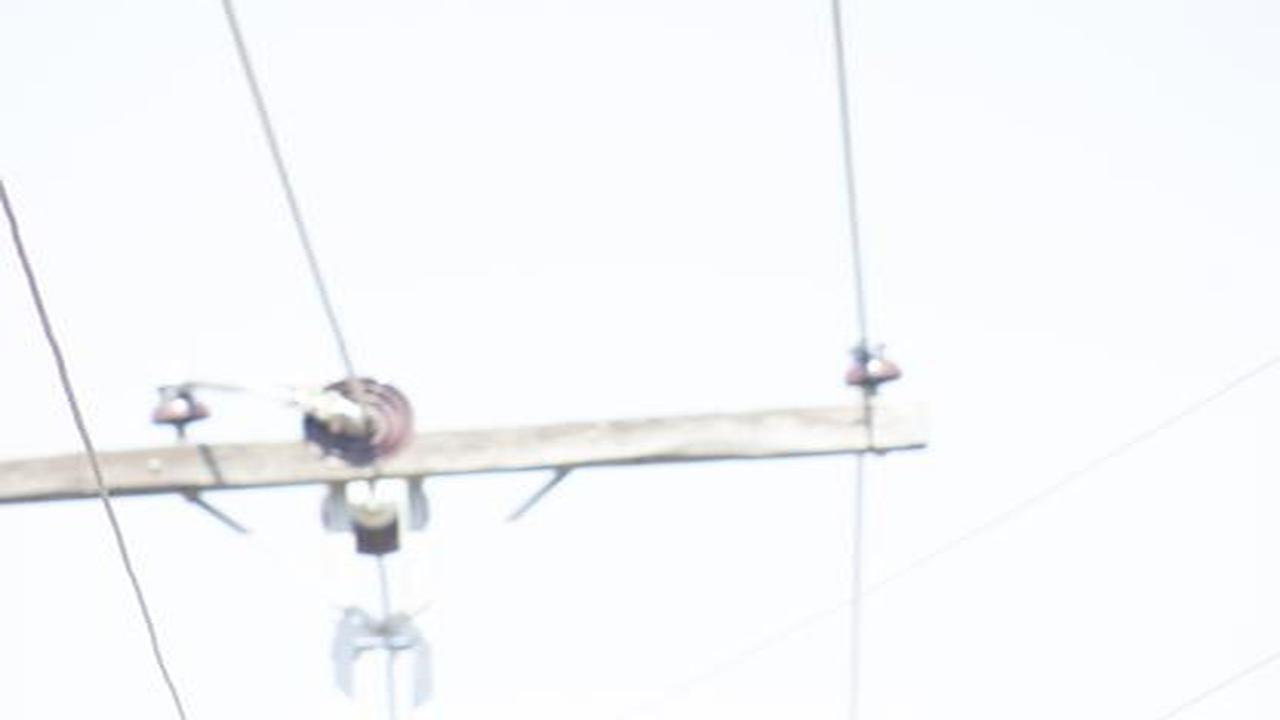insulator_disc: (301, 379, 419, 464), (320, 493, 435, 545)
insulator_pin: (847, 335, 904, 393), (151, 384, 213, 432)
